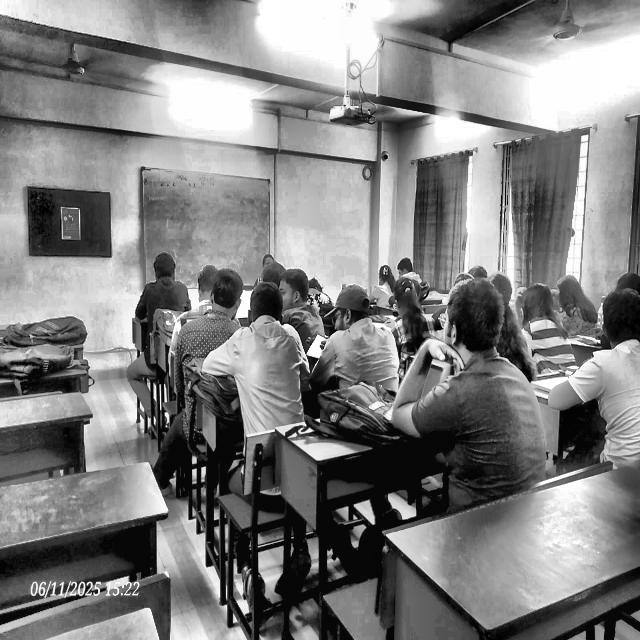Focus: (441, 278, 504, 362), (324, 288, 382, 338), (243, 279, 285, 332), (278, 264, 320, 316), (208, 265, 244, 320), (514, 275, 550, 329), (391, 278, 421, 322), (145, 252, 179, 290), (554, 270, 582, 316), (395, 250, 416, 280), (372, 262, 398, 286)
